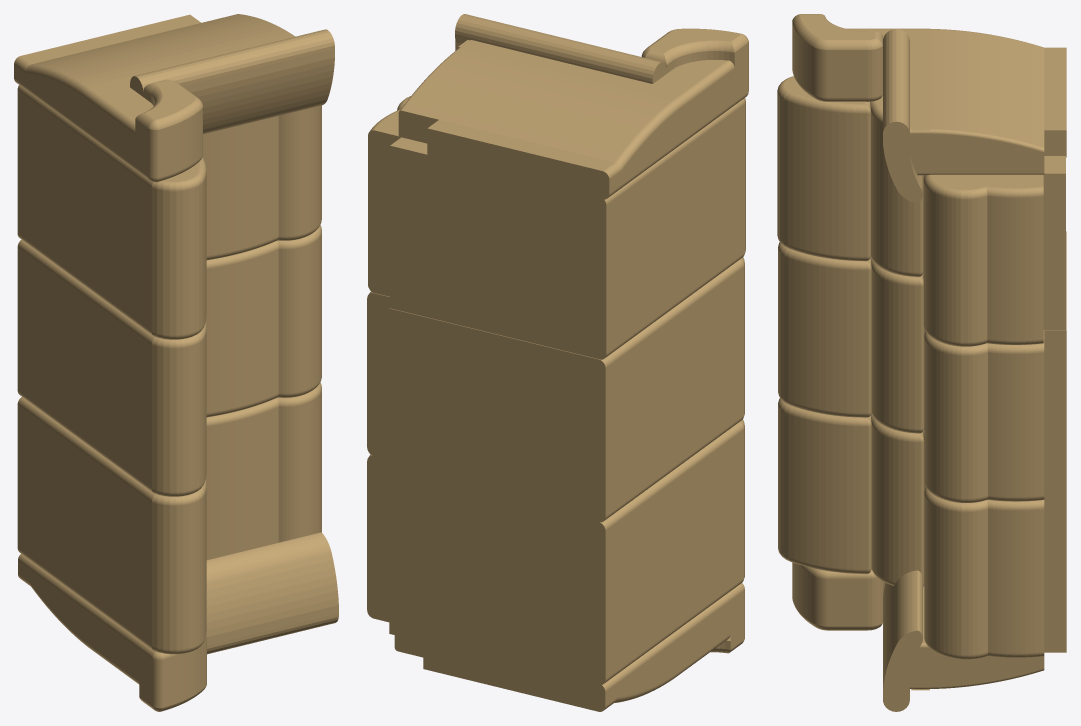
3 renders of one model, left to right at view 1: azimuth 30°, elevation 25°; view 2: azimuth 150°, elevation 25°; view 3: azimuth 270°, elevation 25°, orthographic. The views are drawn at different scales.
Parts seen in each view (by area): view 1: couch; view 2: couch; view 3: couch.
Boxes of the visible parts, <box> form: couch: <box>14,14,338,711</box>; couch: <box>367,14,748,711</box>; couch: <box>777,14,1066,711</box>.
Bounding box in the file's own units: 38.56 × 86.56 × 38.59.
